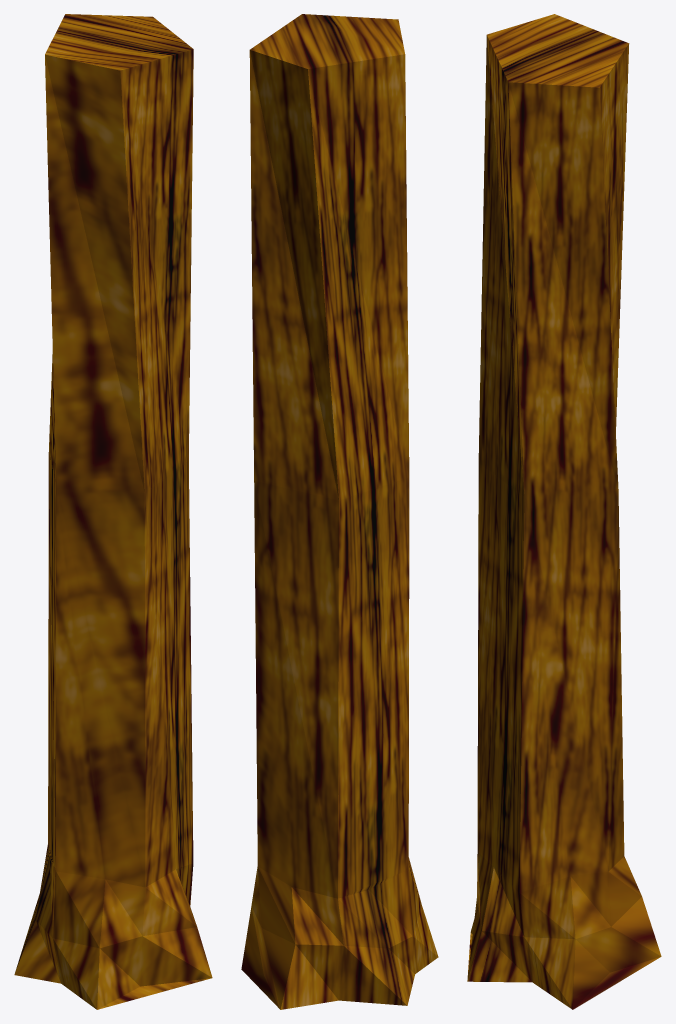
Rendered from MTree_2.gltf.
3 views of the same model, side by side, from view 1: azimuth 30°, elevation 25°; view 2: azimuth 150°, elevation 25°; view 3: azimuth 270°, elevation 25° (orthographic). The views are drawn at different scales.
Visible parts, largest first — view 1: MTree_2; view 2: MTree_2; view 3: MTree_2.
Boxes of the visible parts, <box> form: MTree_2: <box>14,14,212,1009</box>; MTree_2: <box>241,14,438,1009</box>; MTree_2: <box>467,14,661,1009</box>.
Size of the model in its own units: 4.8 by 25.39 by 4.84.
1 material, 1 textured.
